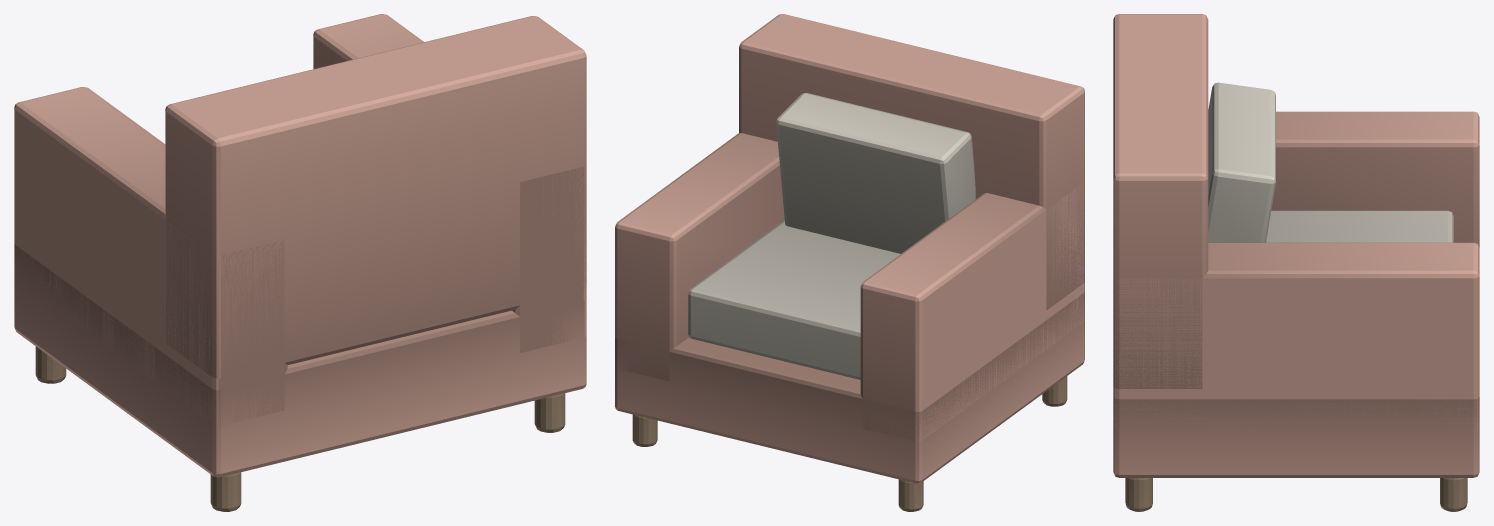
Rendered from furn_armchair__coral.glb.
3 renders of one model, left to right at view 1: azimuth 30°, elevation 25°; view 2: azimuth 150°, elevation 25°; view 3: azimuth 270°, elevation 25°, orthographic. The views are drawn at different scales.
Size of the model in its own units: 0.9 by 0.88 by 0.85.
